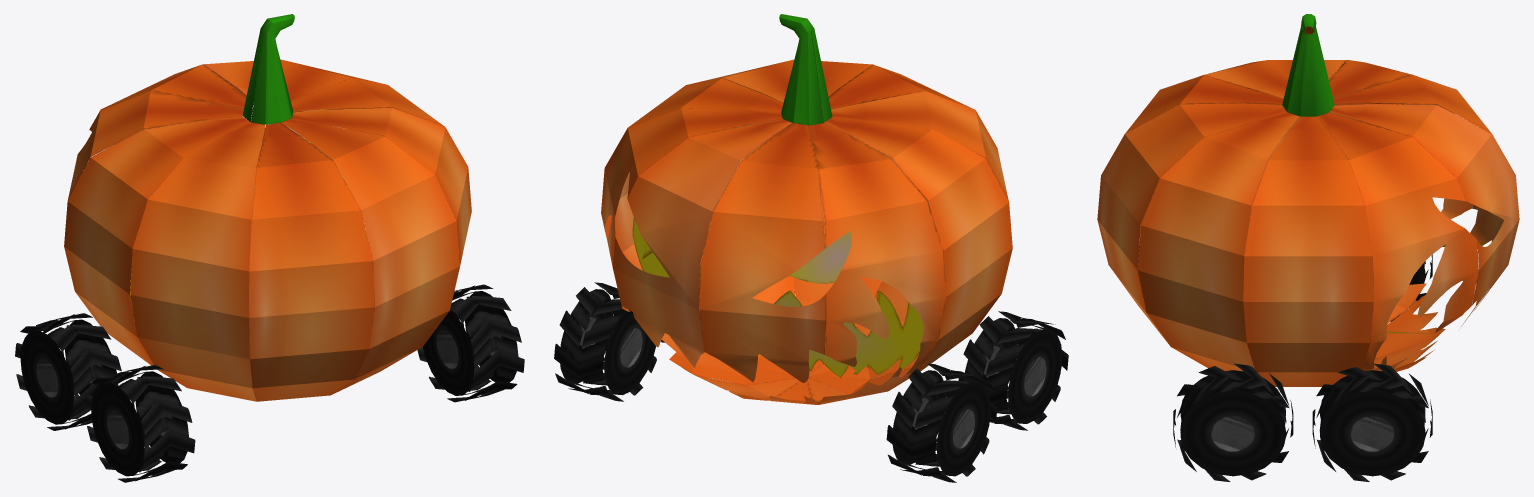
The model's file is pumpkin.fbx.
The picture shows the model from 3 angles, left to right: view 1: azimuth 30°, elevation 25°; view 2: azimuth 150°, elevation 25°; view 3: azimuth 270°, elevation 25°; orthographic projection. The views are drawn at different scales.
Parts seen in each view (by area): view 1: pSphere15; view 2: pSphere15; view 3: pSphere15.
Part boxes in pixels (left/top/right/bottom): pSphere15: left=15, top=14, right=524, bottom=482; pSphere15: left=554, top=14, right=1068, bottom=482; pSphere15: left=1097, top=14, right=1519, bottom=481.
Bounding box in the file's own units: 110 × 106 × 107.
